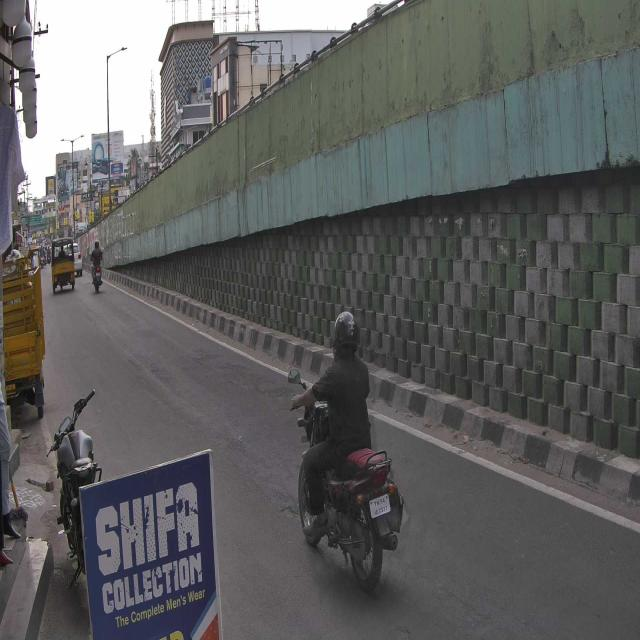single_rider: (285, 307, 407, 592)
